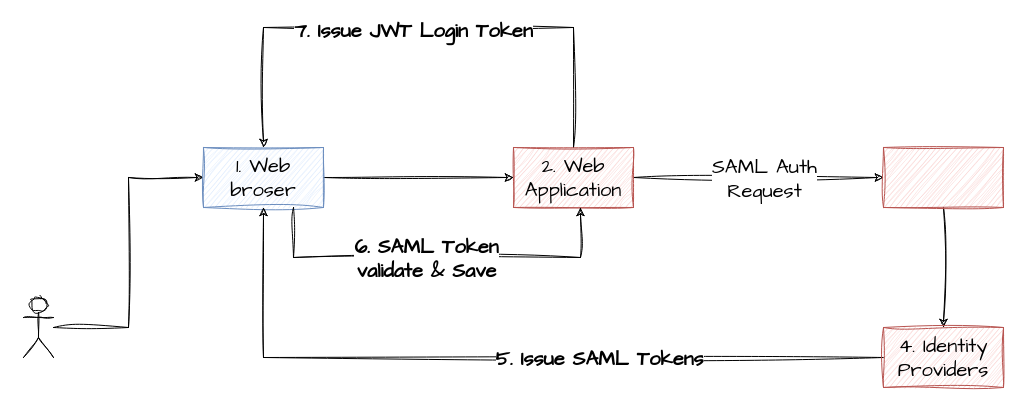
This 1021x406 diagram has some shape labels left out. Here are the shapes that lost their labels. From the top down, the box of each, then its label:
(882, 146, 1004, 208): 3. User Directory
(22, 296, 54, 358): User
